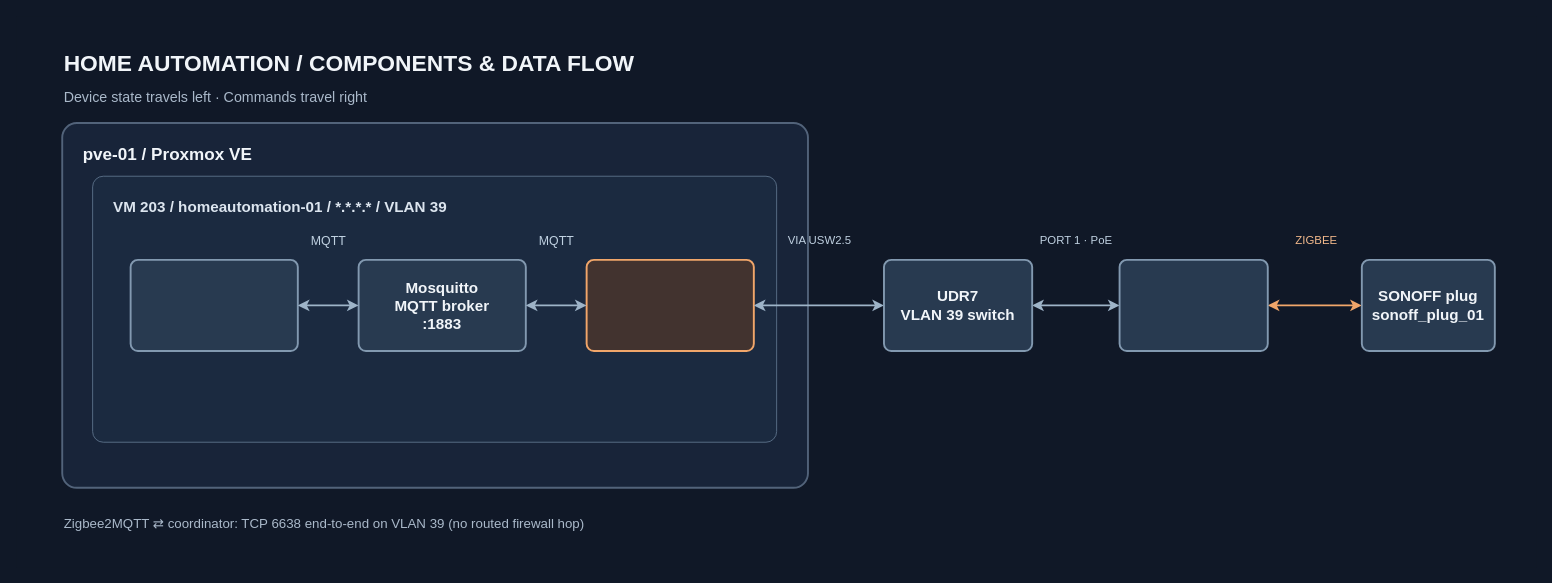
Image size: 1552x583. Some labels were removed from this diagram. Each missing label, with the centre of its shape:
"Home Assistant UI · automations :8123" goes at (x=213, y=305).
"SLZB-06U coordinator *.*.*.*" goes at (x=1193, y=305).
"Zigbee2MQTT Zigbee ⇄ MQTT UI :8080" goes at (x=669, y=305).
